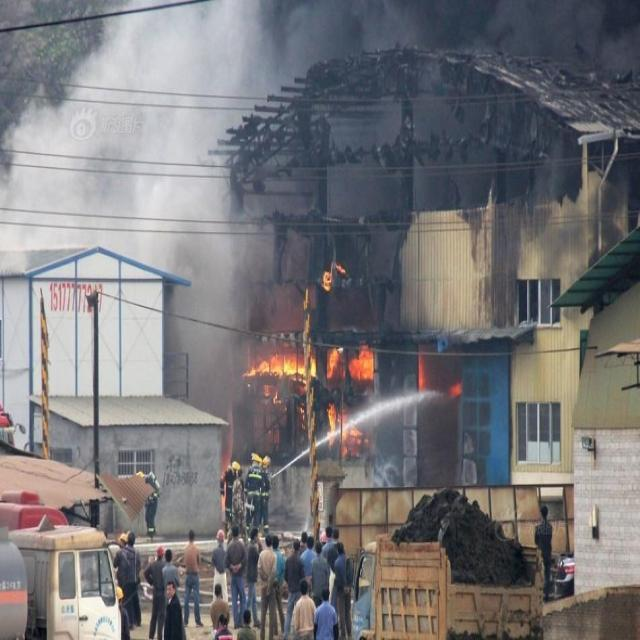Fire: (237, 338, 381, 470), (301, 259, 350, 333), (412, 340, 466, 400)
Smoke: (0, 1, 238, 421), (240, 0, 640, 209), (242, 214, 308, 337)
